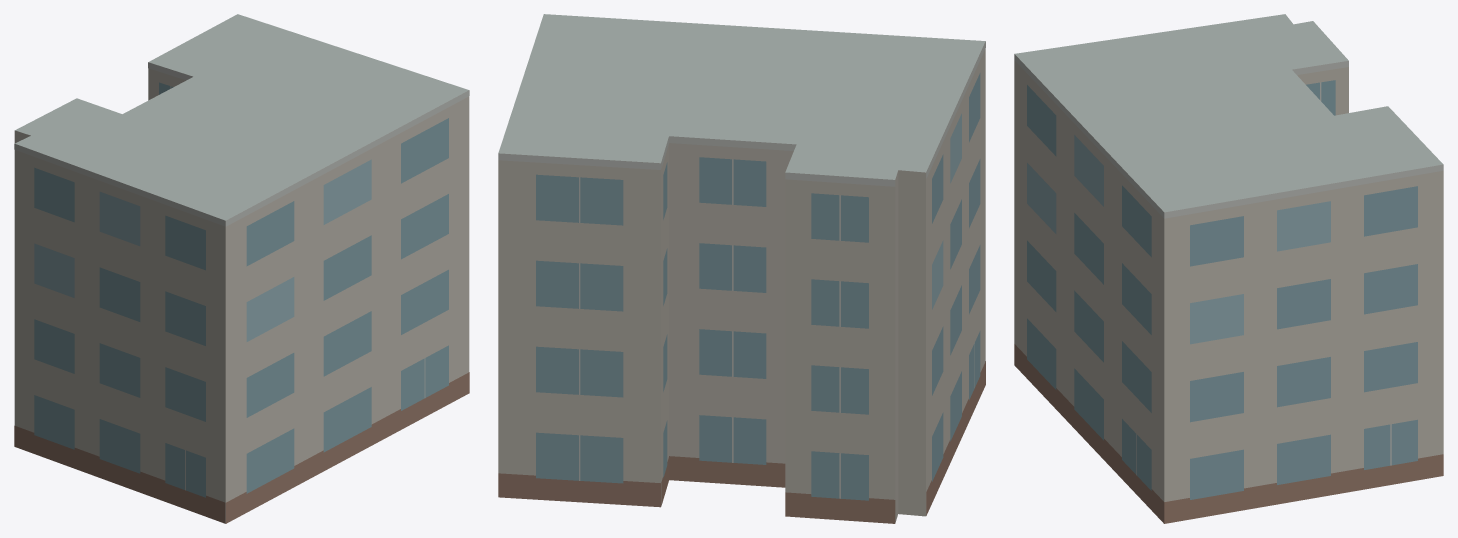
File: survey-upis-33002156.glb
3 renders of one model, left to right at view 1: azimuth 30°, elevation 25°; view 2: azimuth 150°, elevation 25°; view 3: azimuth 270°, elevation 25°, orthographic. The views are drawn at different scales.
Visible parts, largest first — view 1: survey-upis-33002156.tmp; view 2: survey-upis-33002156.tmp; view 3: survey-upis-33002156.tmp.
Boxes of the visible parts, bbox=[...] form: survey-upis-33002156.tmp: bbox=[14, 14, 469, 523]; survey-upis-33002156.tmp: bbox=[498, 14, 985, 523]; survey-upis-33002156.tmp: bbox=[1014, 14, 1443, 523].
Bounding box in the file's own units: 16.68 × 12.2 × 15.25.
